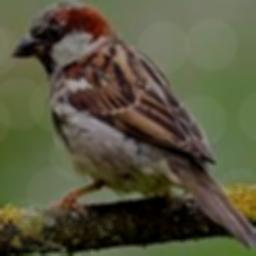Sparrow: (10, 0, 256, 251)
